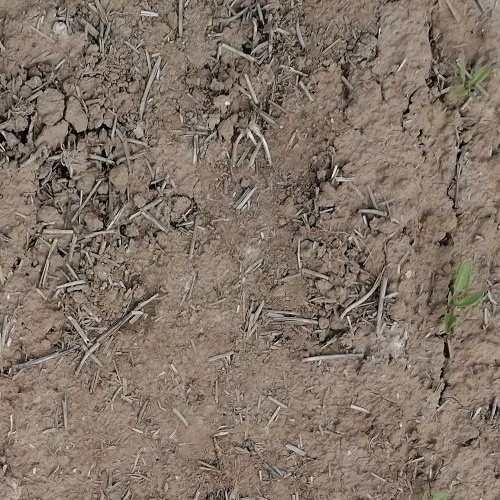beet: (444, 261, 484, 333), (453, 68, 491, 96)
